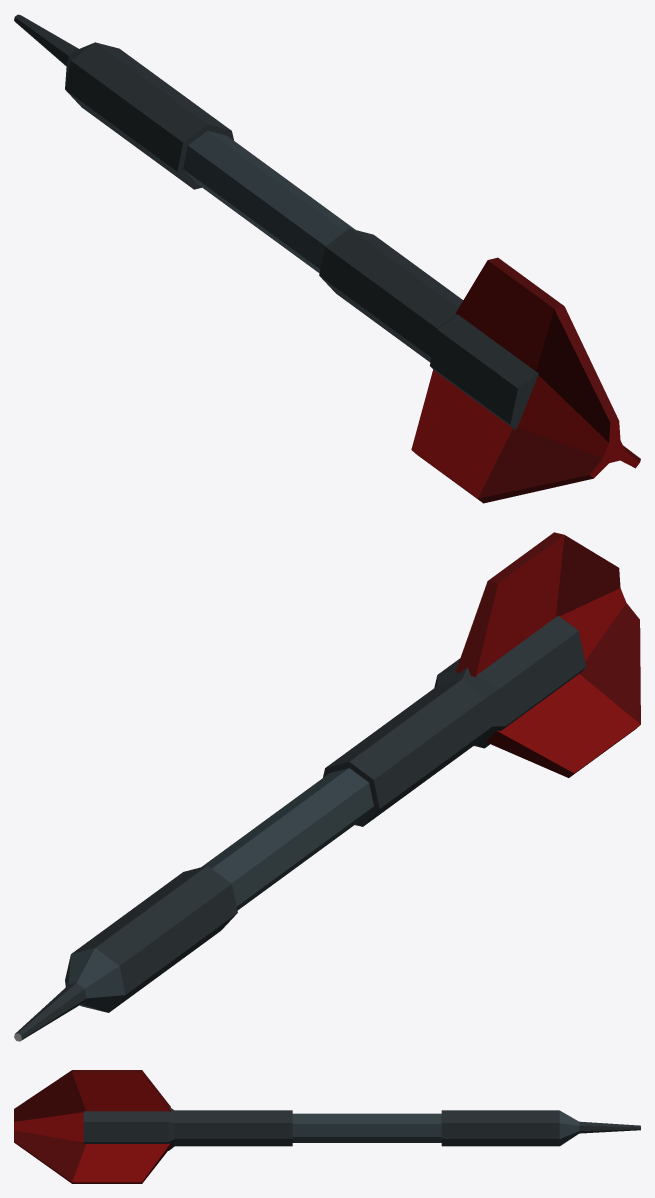
The model's file is DartV1Red.fbx.
3 views of the same model, one above another, from view 1: azimuth 30°, elevation 25°; view 2: azimuth 150°, elevation 25°; view 3: azimuth 270°, elevation 25° (orthographic). The views are drawn at different scales.
Parts seen in each view (by area): view 1: DartV1Red; view 2: DartV1Red; view 3: DartV1Red.
Part boxes in pixels (<box>): DartV1Red: <box>14,14,640,503</box>; DartV1Red: <box>14,532,640,1041</box>; DartV1Red: <box>14,1070,640,1183</box>.
Size of the model in its own units: 1.2 by 1.25 by 7.63.
